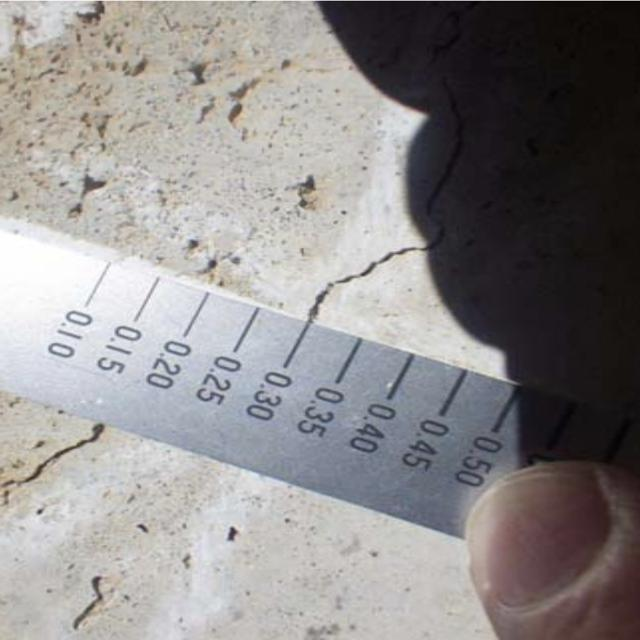crack: (293, 217, 476, 324), (0, 412, 107, 497)
